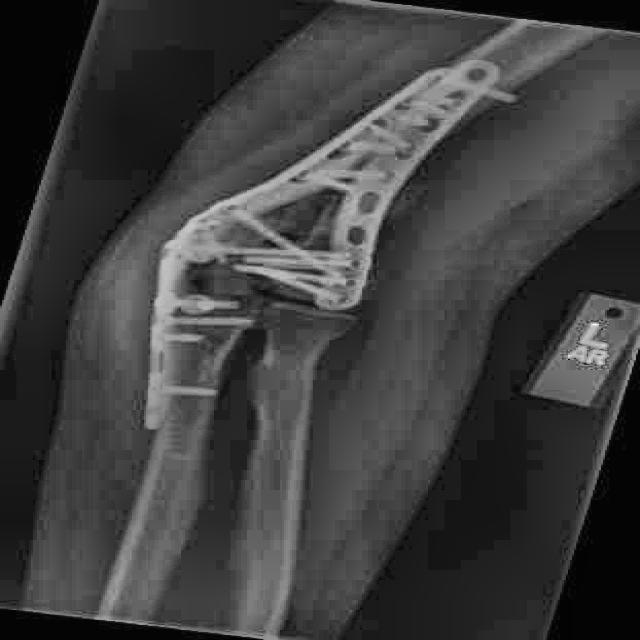elbow positive: (266, 199, 343, 249)
